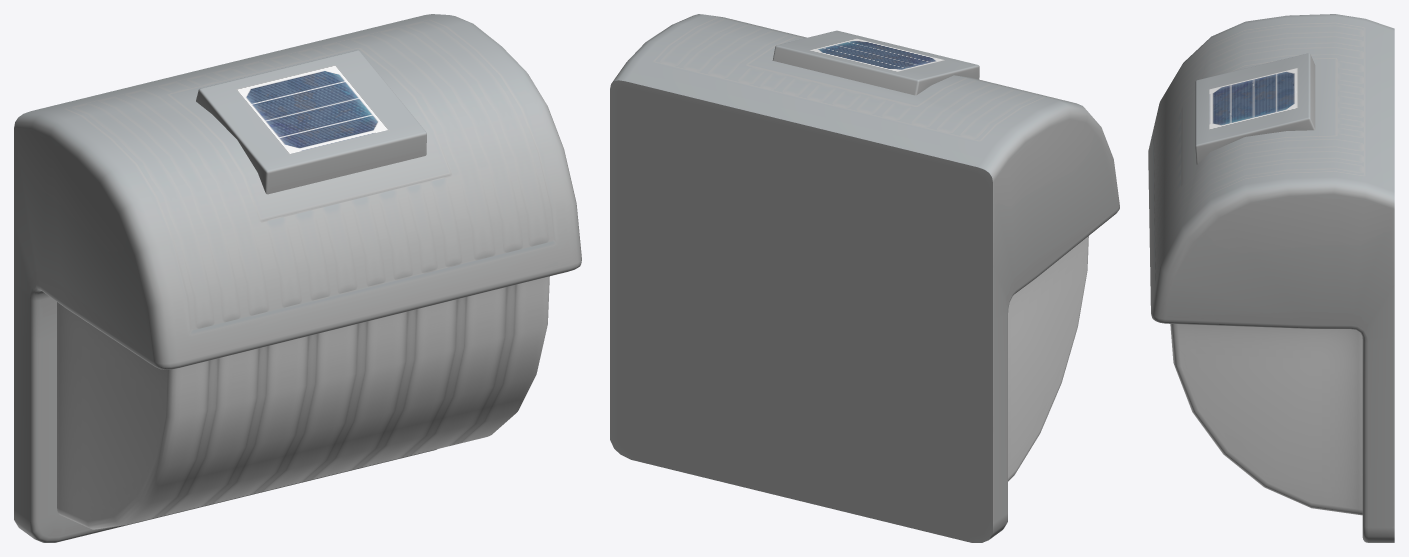
The model's file is PoolLightWall01.FBX.
3 renders of one model, left to right at view 1: azimuth 30°, elevation 25°; view 2: azimuth 150°, elevation 25°; view 3: azimuth 270°, elevation 25°, orthographic. The views are drawn at different scales.
Parts seen in each view (by area): view 1: PoolLightWall01; view 2: PoolLightWall01; view 3: PoolLightWall01.
Part boxes in pixels (left/top/right/bottom): PoolLightWall01: left=14, top=14, right=581, bottom=542; PoolLightWall01: left=610, top=14, right=1119, bottom=542; PoolLightWall01: left=1148, top=14, right=1394, bottom=542.
Size of what is drawn, in the model's own units: 0.2318 by 0.2343 by 0.1386.
